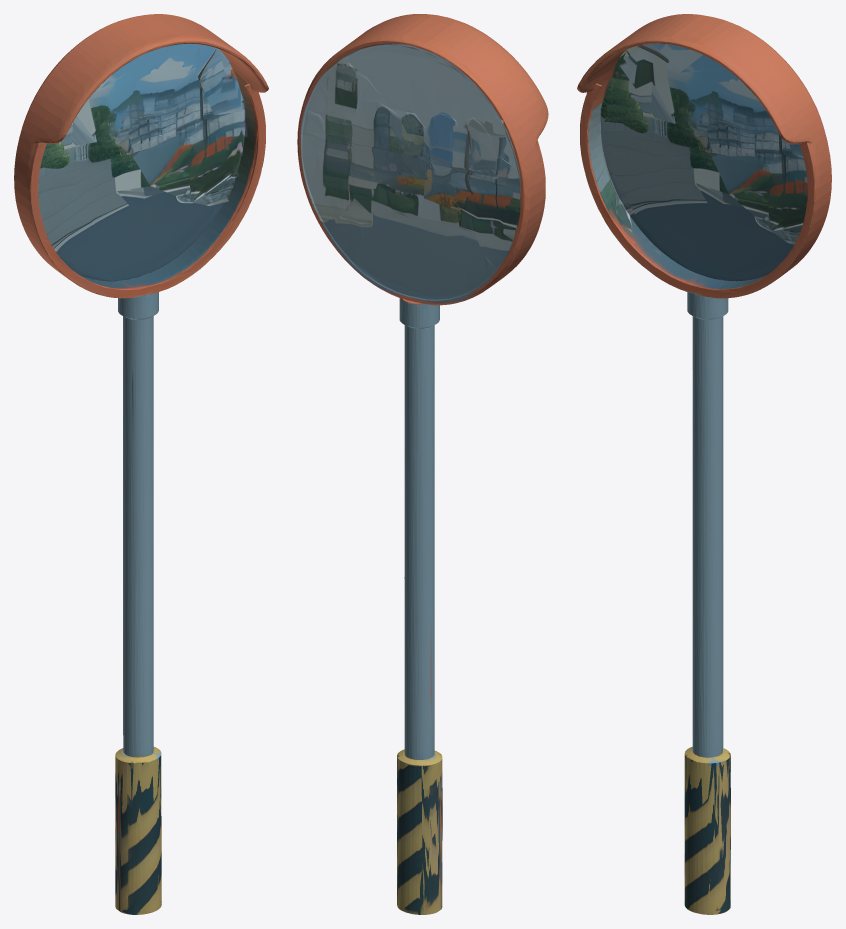
The model's file is traffic_mirror.glb.
The picture shows the model from 3 angles, left to right: view 1: azimuth 30°, elevation 25°; view 2: azimuth 150°, elevation 25°; view 3: azimuth 330°, elevation 25°; orthographic projection.
Visible parts, largest first — view 1: traffic_mirror; view 2: traffic_mirror; view 3: traffic_mirror.
Boxes of the visible parts, x1=… form: traffic_mirror: x1=14, y1=14, x2=268, y2=914; traffic_mirror: x1=297, y1=14, x2=548, y2=914; traffic_mirror: x1=577, y1=14, x2=831, y2=914.
Size of the model in its own units: 0.84 by 3 by 0.2345.
1 material, 1 textured.
